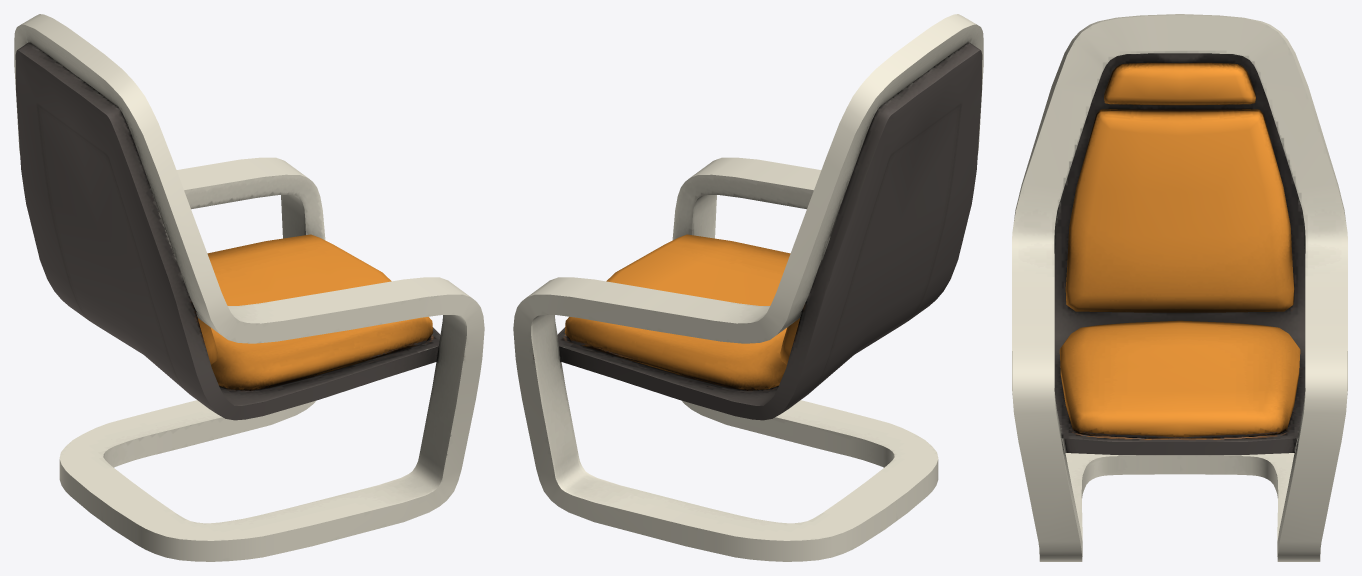
File: SM_Chair.glb
The picture shows the model from 3 angles, left to right: view 1: azimuth 30°, elevation 25°; view 2: azimuth 150°, elevation 25°; view 3: azimuth 270°, elevation 25°; orthographic projection. The views are drawn at different scales.
Visible parts, largest first — view 1: SM_Chair; view 2: SM_Chair; view 3: SM_Chair.
Part boxes in pixels (left/top/right/bottom): SM_Chair: left=14, top=14, right=484, bottom=561; SM_Chair: left=513, top=14, right=983, bottom=561; SM_Chair: left=1012, top=14, right=1347, bottom=561.
Size of the model in its own units: 0.8216 by 1.15 by 0.809.
Materials: 1 (1 with a texture image).
